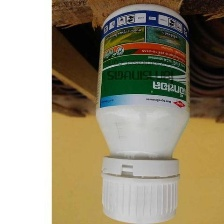insecticide: (92, 1, 195, 223)
